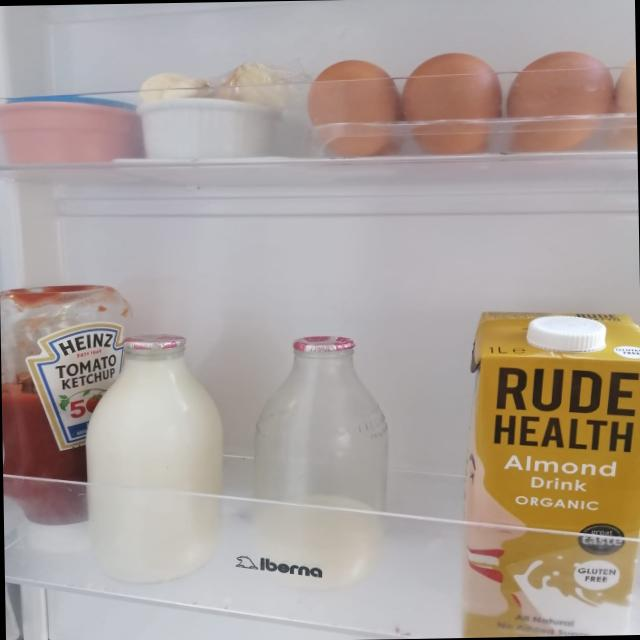Leche: (259, 330, 396, 578), (88, 335, 225, 577)
oat_milk: (462, 308, 638, 636)
